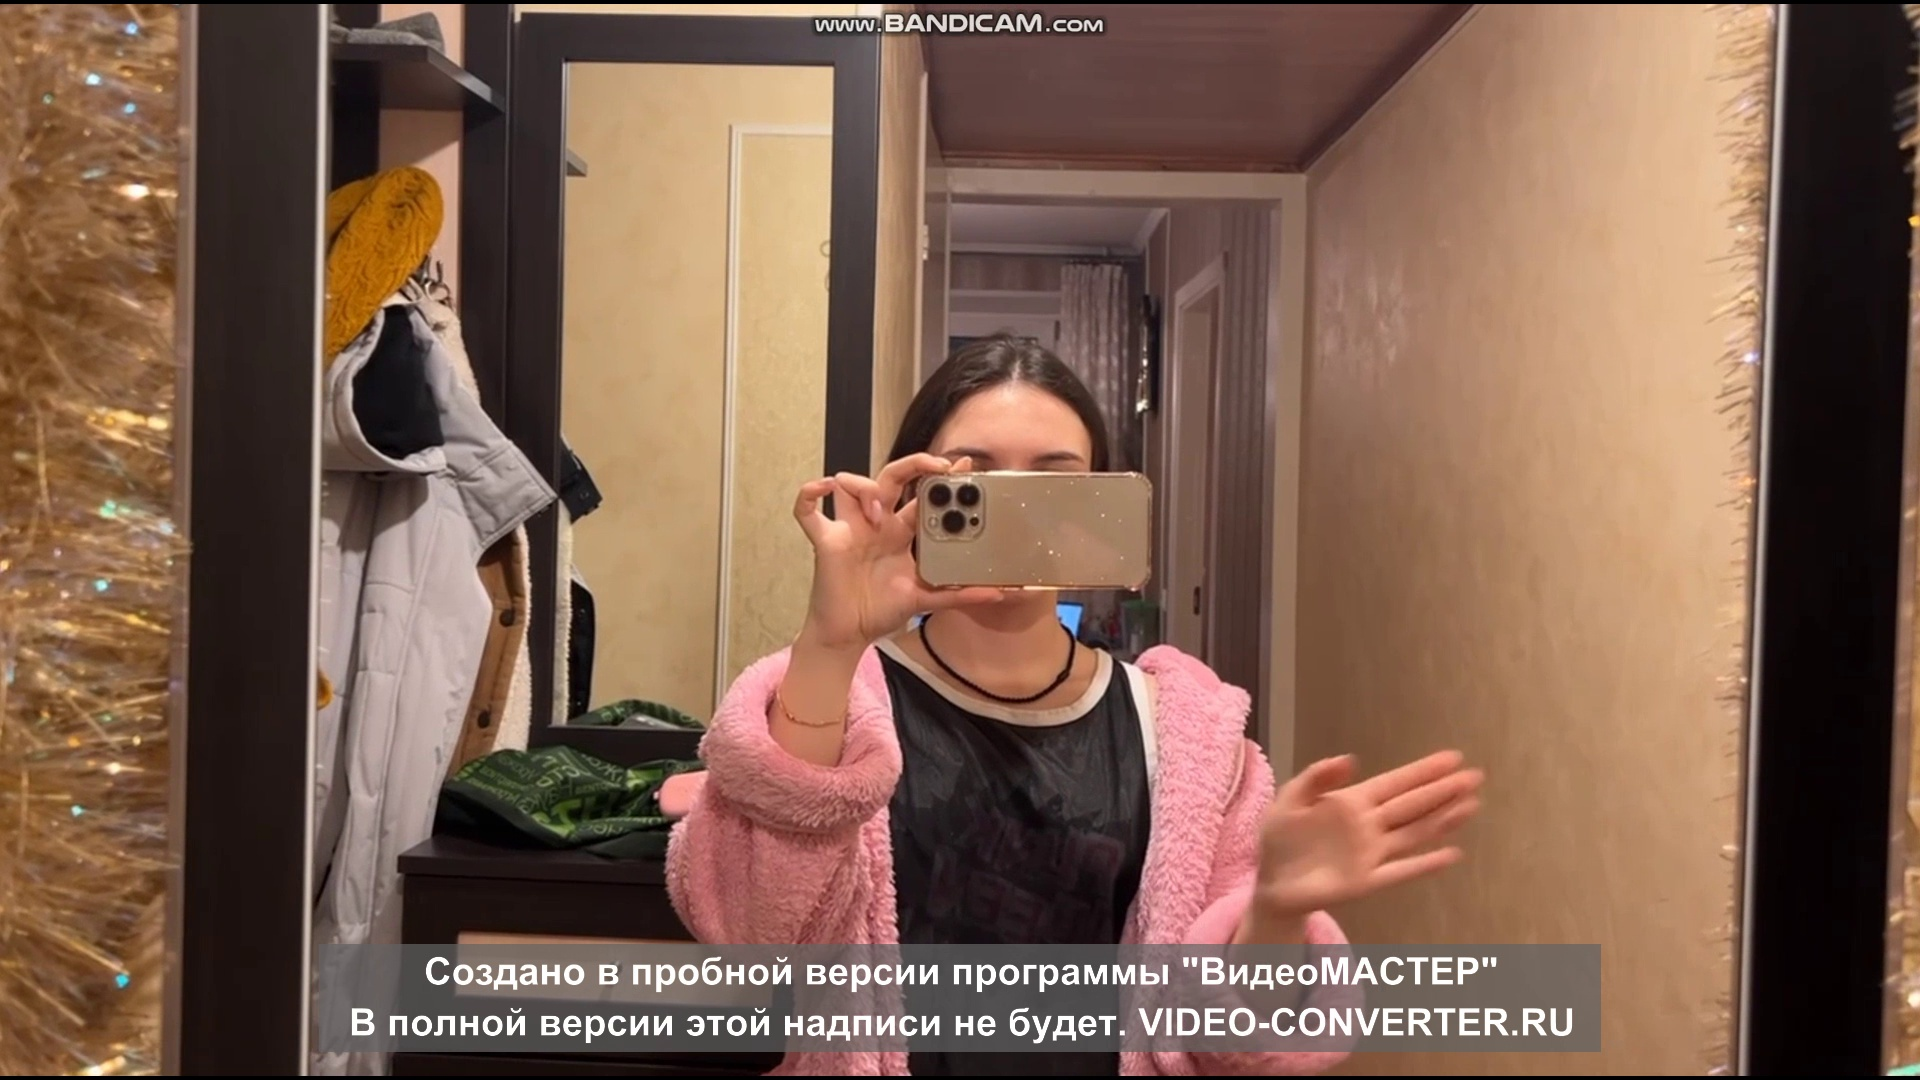Ладонь: (1257, 740, 1480, 903)
